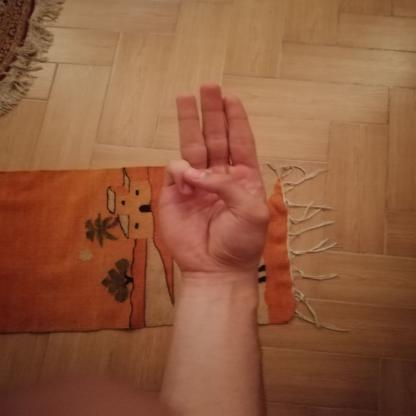THA: (141, 73, 286, 285)
